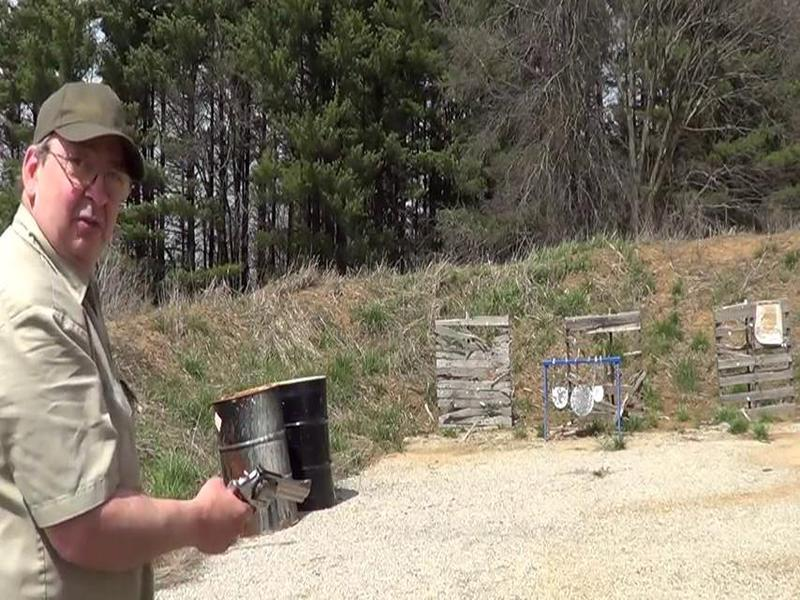Revolver: (199, 449, 322, 550)
